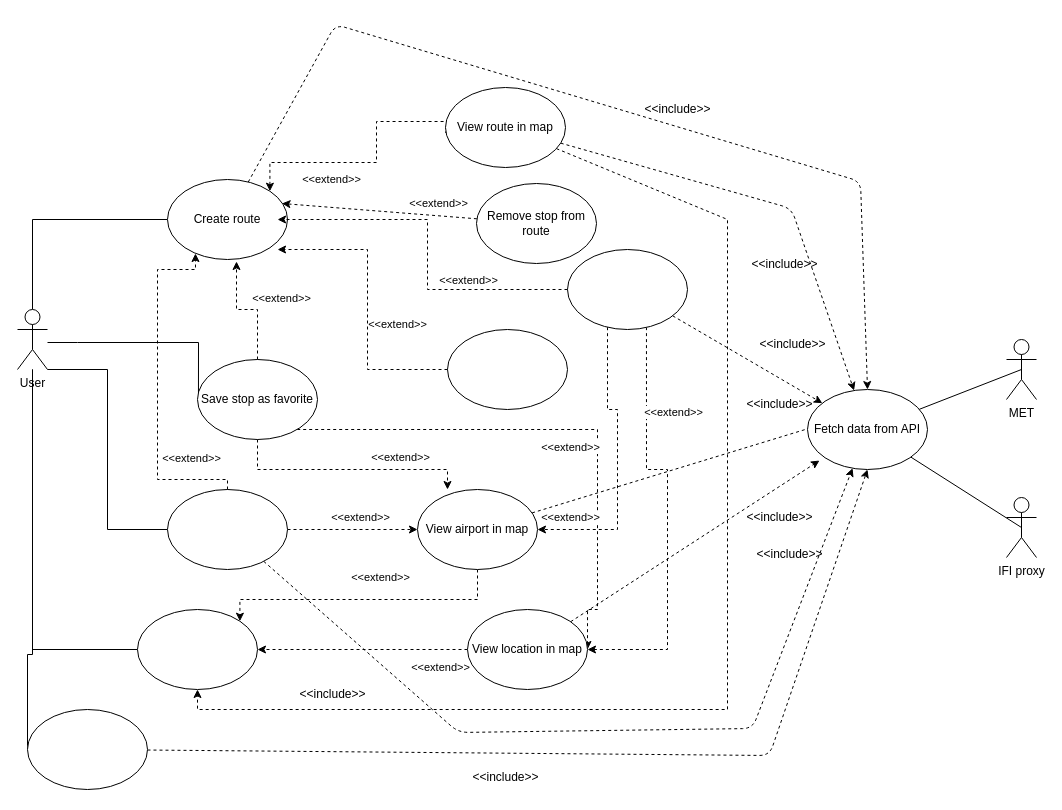
This 1062x810 diagram has some shape labels left out. Here are the shapes that lost their labels. From the top down, the box of each, then its label:
(566, 248, 688, 330): Add stop to route
(446, 328, 568, 410): Rearrange route
(166, 488, 288, 570): View TAF/METAR
(136, 608, 258, 690): View map
(26, 708, 148, 790): View SigChart
